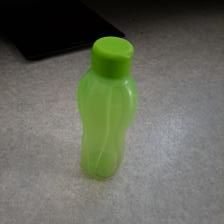bottle: (72, 33, 142, 183)
